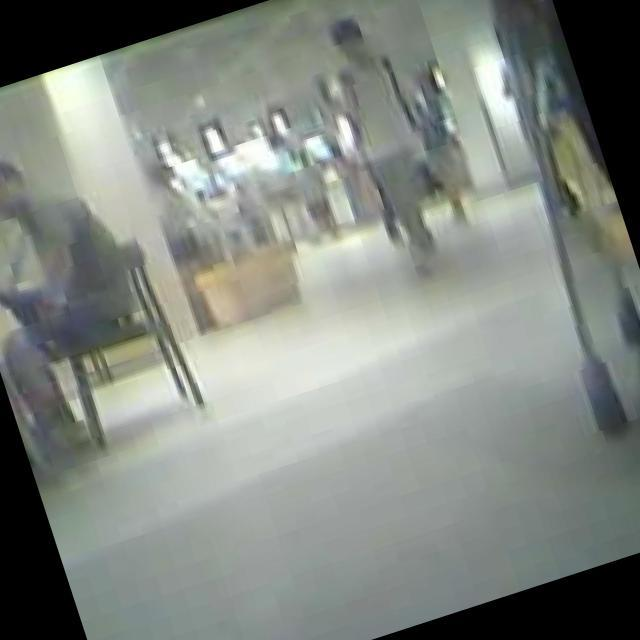person: (0, 127, 176, 452), (303, 0, 483, 288)
